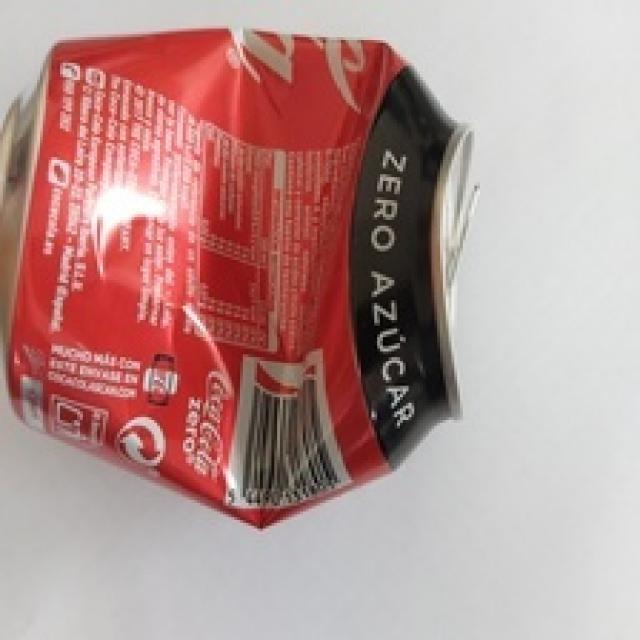recyclable: (0, 22, 477, 528)
